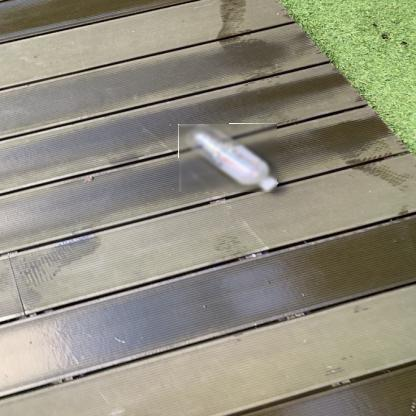plastic-bottles: (180, 125, 279, 194)
